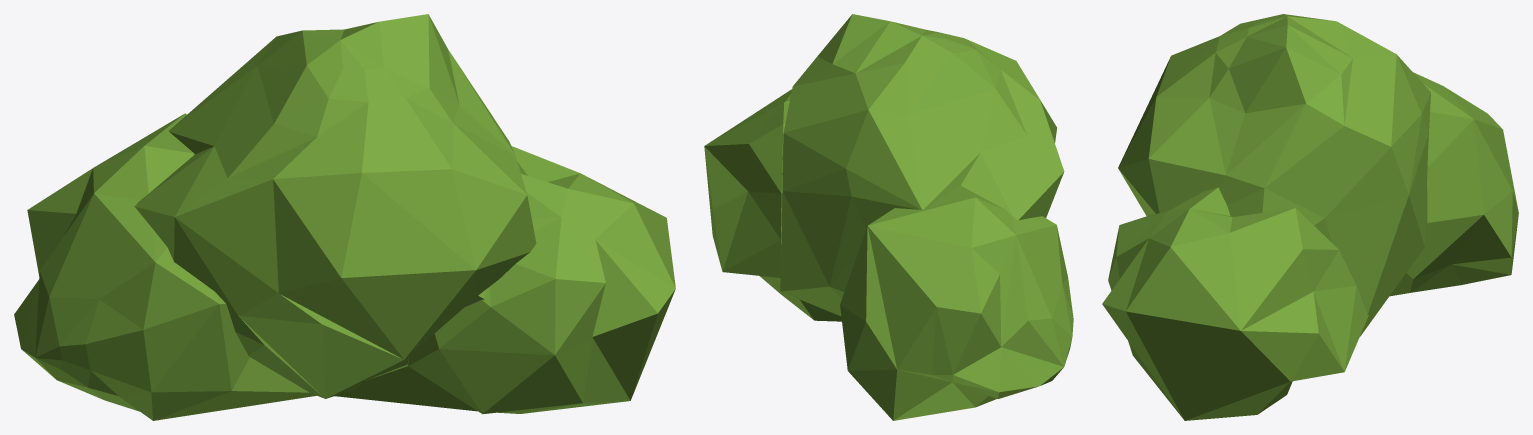
3 views of the same model, side by side, from view 1: azimuth 30°, elevation 25°; view 2: azimuth 150°, elevation 25°; view 3: azimuth 270°, elevation 25° (orthographic). The views are drawn at different scales.
Visible parts, largest first — view 1: node_MeshObject-1087640768-PolyPaper9; view 2: node_MeshObject-1087640768-PolyPaper9; view 3: node_MeshObject-1087640768-PolyPaper9.
Boxes of the visible parts, bbox=[...] form: node_MeshObject-1087640768-PolyPaper9: bbox=[14, 14, 675, 420]; node_MeshObject-1087640768-PolyPaper9: bbox=[704, 14, 1073, 420]; node_MeshObject-1087640768-PolyPaper9: bbox=[1102, 14, 1518, 420].
Size of the model in its own units: 0.246 by 0.1724 by 0.1967.
